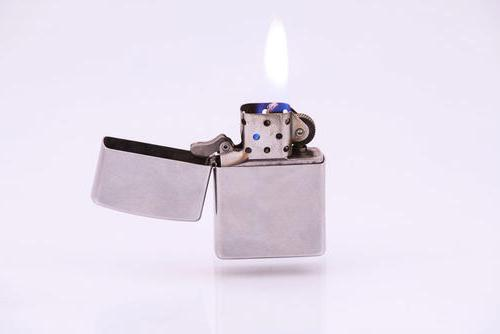fire: (260, 12, 303, 96)
